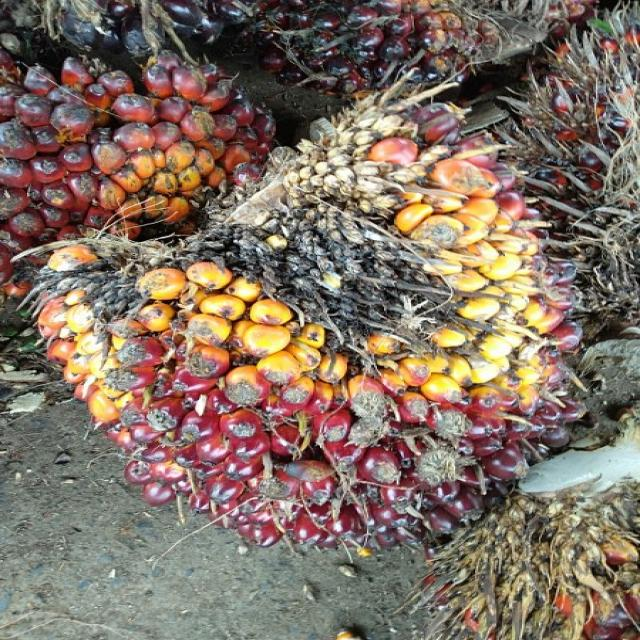fraksi 1: (3, 64, 640, 595)
